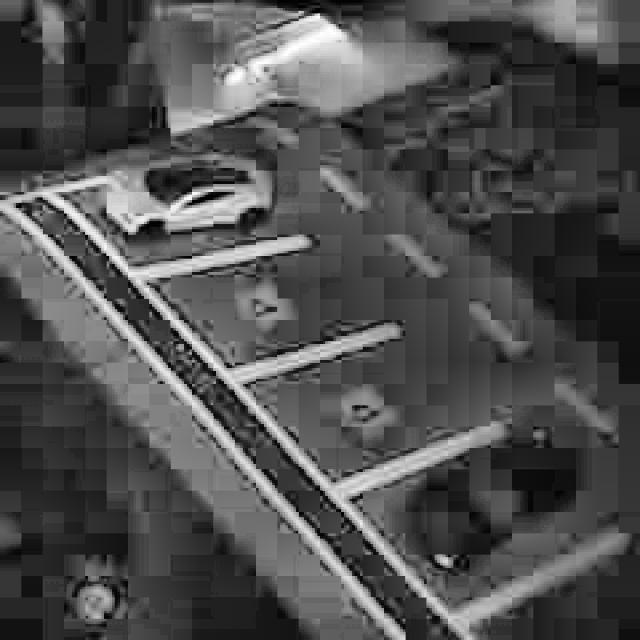car: (396, 420, 567, 576), (80, 147, 282, 256)
